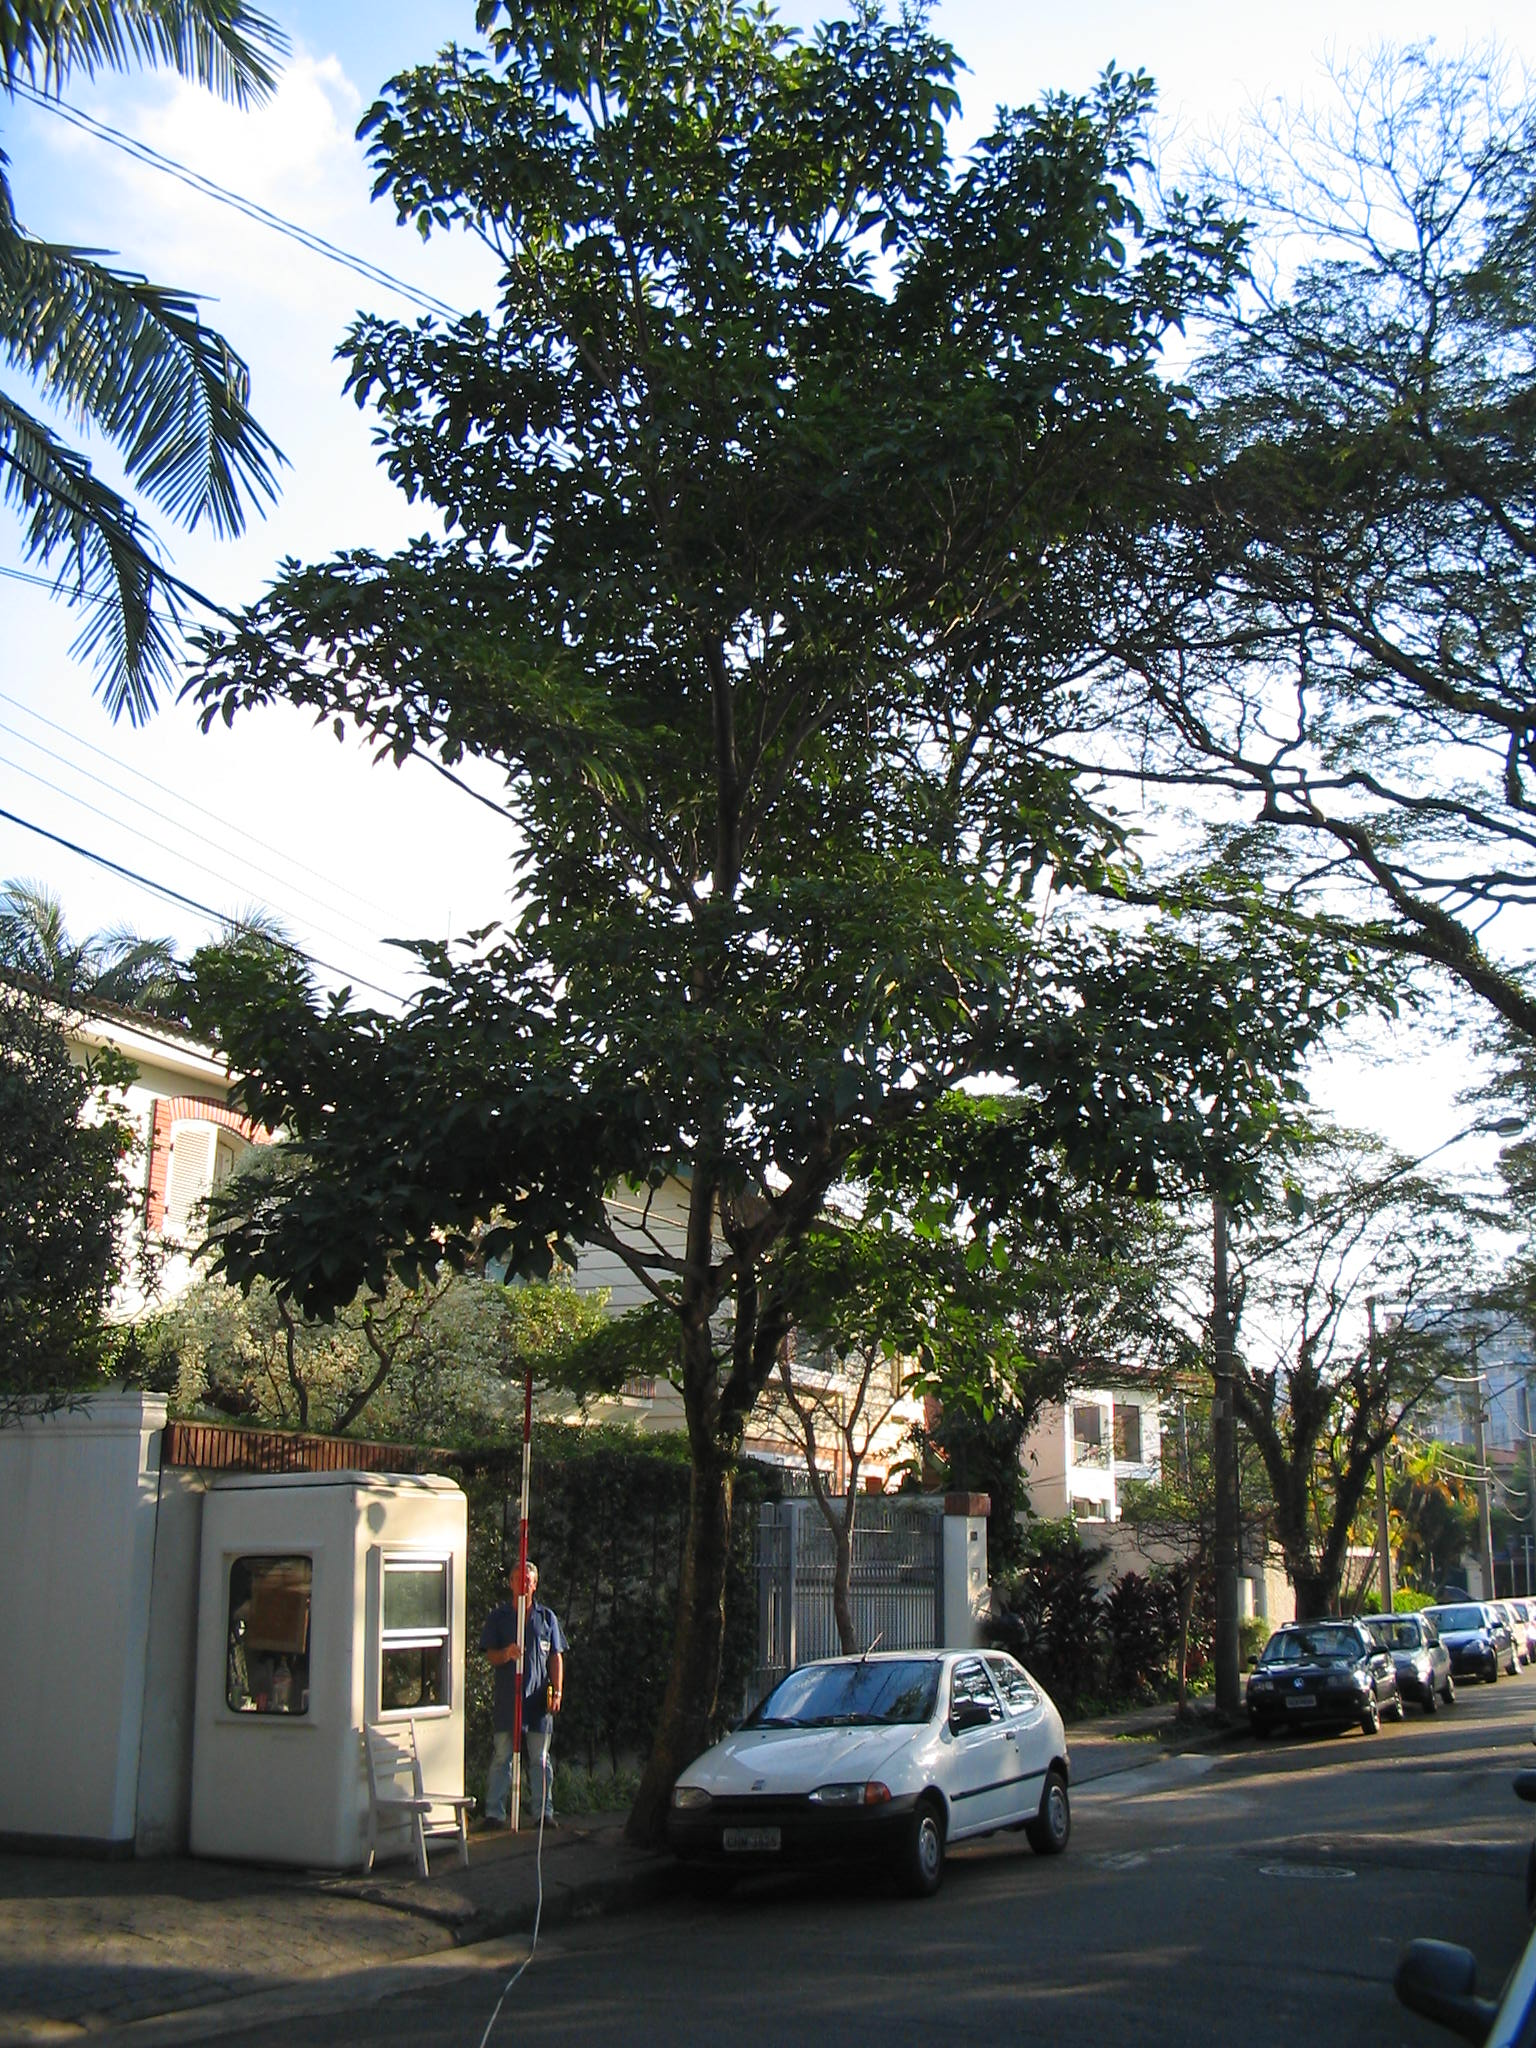crown: (198, 8, 1371, 1474)
stem: (608, 1432, 770, 1840)
stick: (482, 1376, 565, 1838)
tree: (190, 5, 1378, 1850), (1107, 1137, 1528, 1621)
